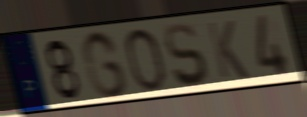4: (255, 12, 290, 79)
8: (44, 38, 81, 101)
G: (79, 28, 130, 101)
K: (205, 19, 251, 81)
O: (123, 25, 168, 93)
S: (163, 21, 211, 90)
